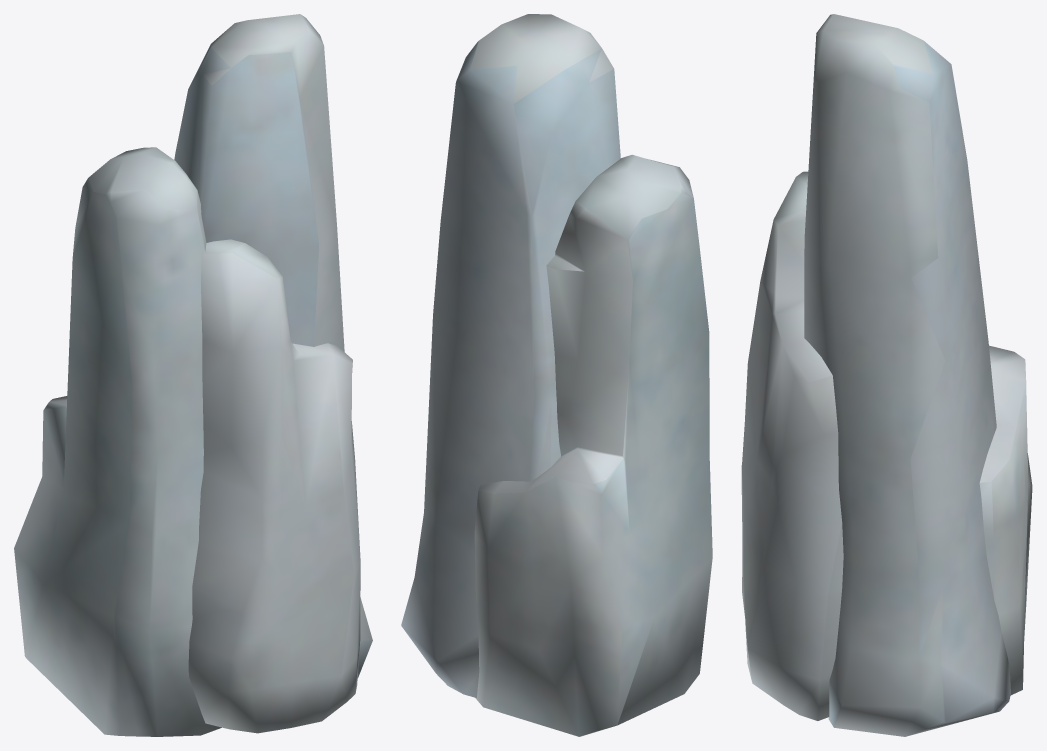
The model's file is P_RockSpire_Spire02.obj.
The picture shows the model from 3 angles, left to right: view 1: azimuth 30°, elevation 25°; view 2: azimuth 150°, elevation 25°; view 3: azimuth 270°, elevation 25°; orthographic projection. The views are drawn at different scales.
Size of the model in its own units: 30.18 by 68.37 by 26.42.
